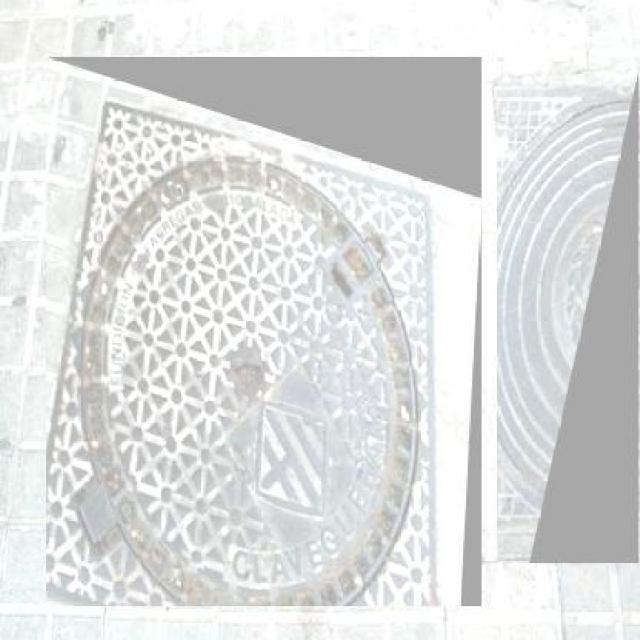Manhole: (46, 57, 482, 606), (498, 71, 640, 564)
